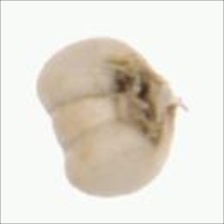L5: (104, 54, 185, 150), (47, 93, 115, 151)
L6: (32, 35, 184, 198)
